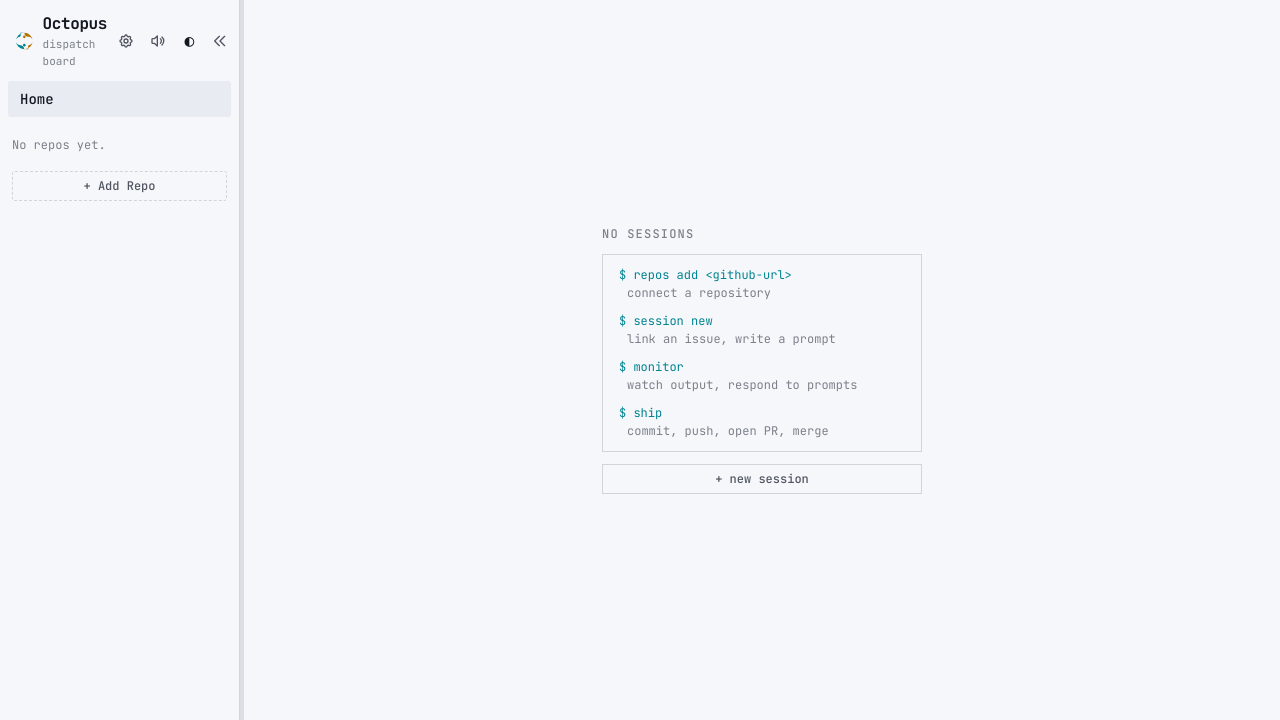
Test: Repo management › closes add repo dialog via Cancel button
The image size is (1280, 720).
Click the button with test id "add-repo-button" at (120, 186), box [12, 171, 227, 201]
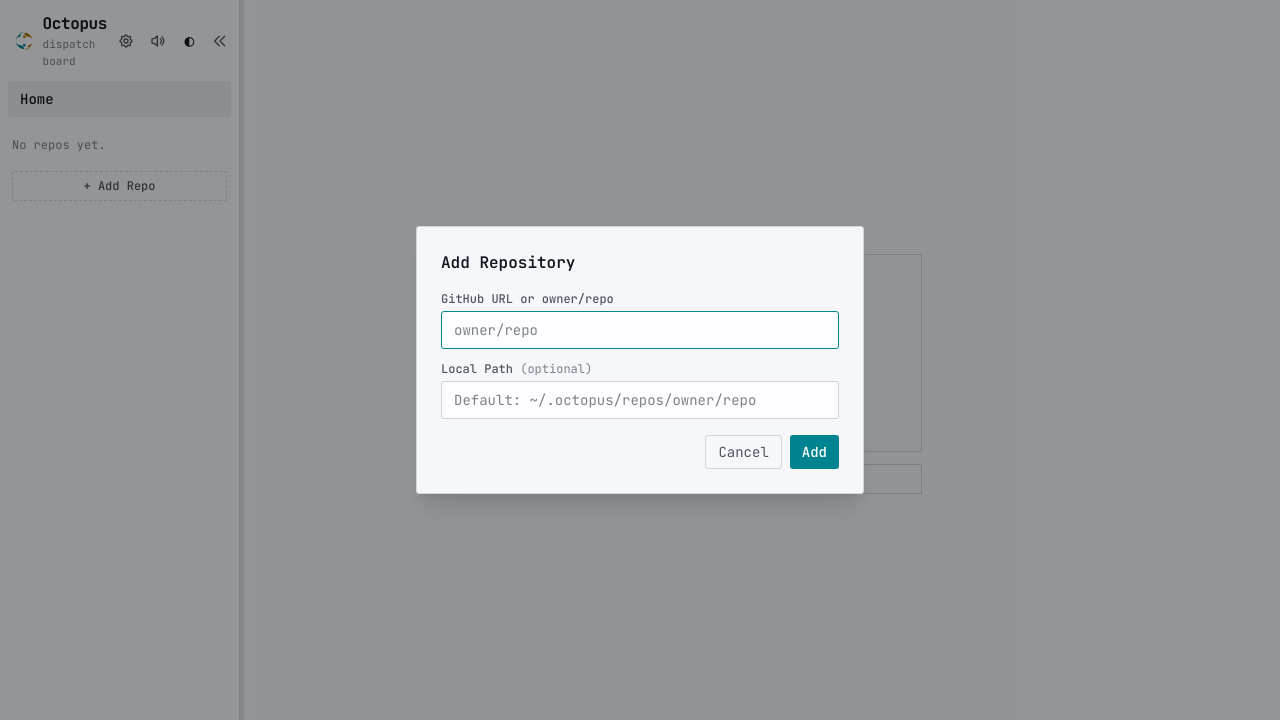
Result: the heading "Add Repository" is shown at [441, 252, 575, 273]
Click the button "Cancel" at (744, 452), box [705, 435, 782, 469]
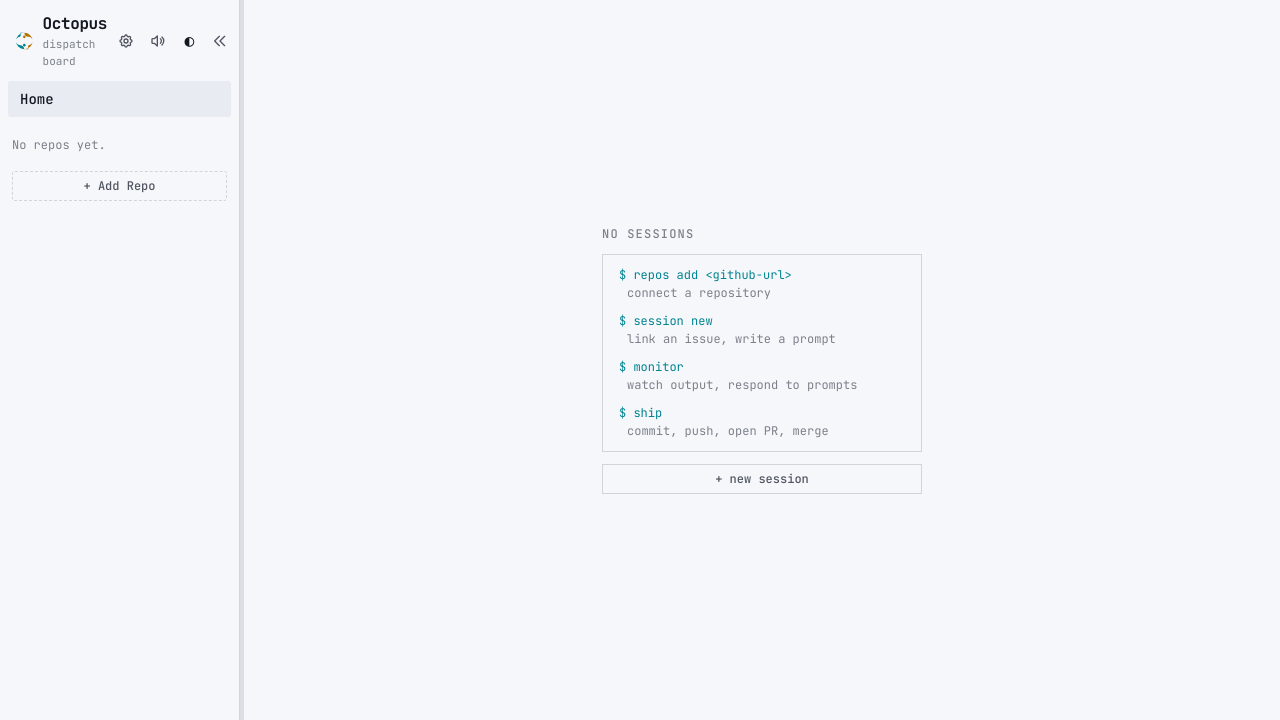
Result: the heading "Add Repository" is gone
